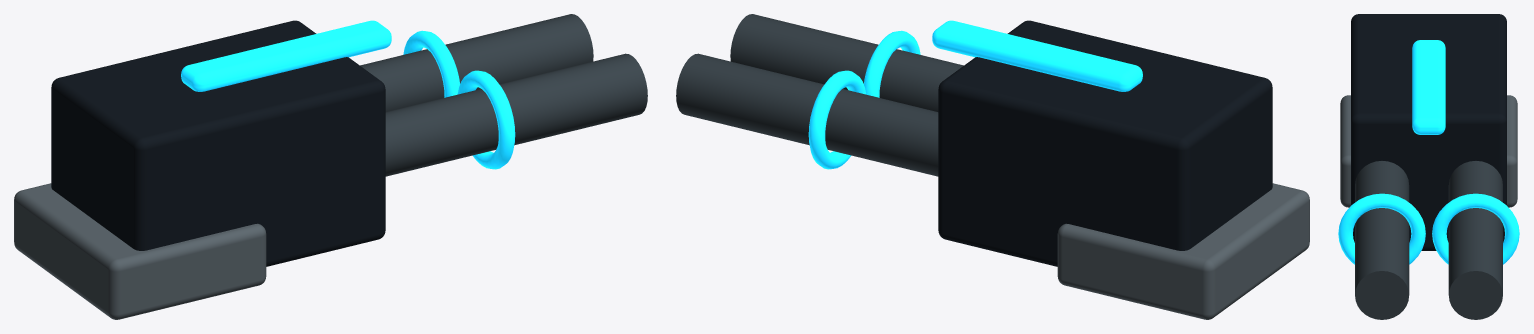
3 views of the same model, side by side, from view 1: azimuth 30°, elevation 25°; view 2: azimuth 150°, elevation 25°; view 3: azimuth 270°, elevation 25° (orthographic). The views are drawn at different scales.
Size of the model in its own units: 5.2 by 1.7 by 1.74.
